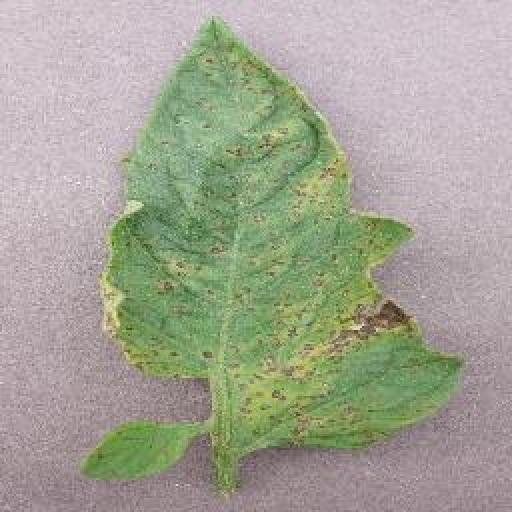Septoria: (103, 14, 471, 462)
